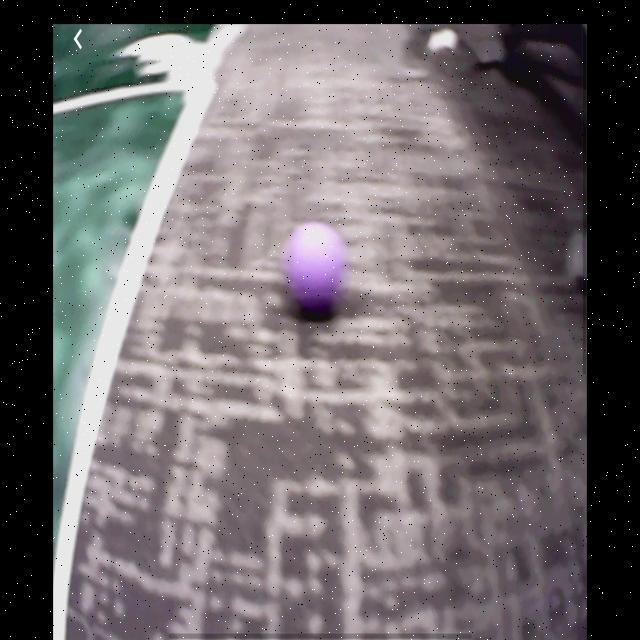ball: (282, 223, 345, 305)
